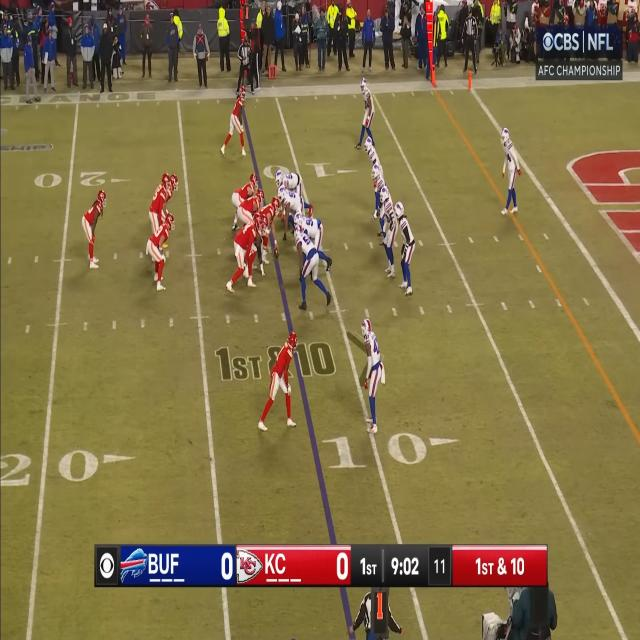Ball: (274, 247, 279, 260)
